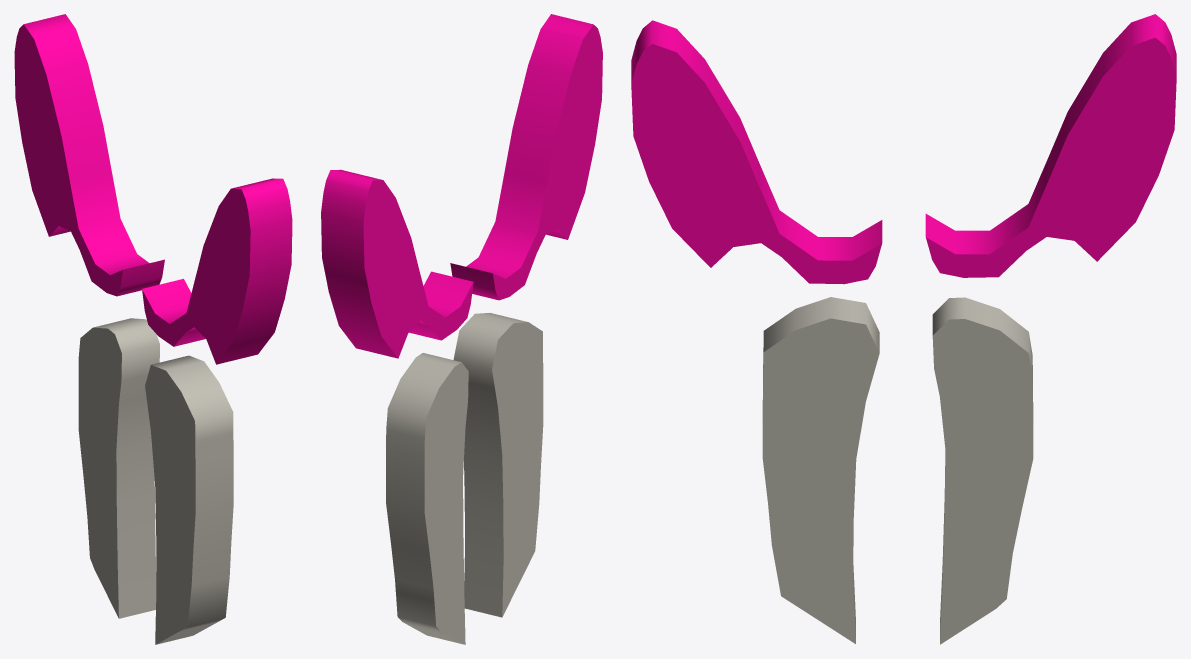
File: rat.fbx
3 views of the same model, side by side, from view 1: azimuth 30°, elevation 25°; view 2: azimuth 150°, elevation 25°; view 3: azimuth 270°, elevation 25° (orthographic). The views are drawn at different scales.
Visible parts, largest first — view 1: teeth, Eyes; view 2: teeth, Eyes; view 3: teeth, Eyes.
Part boxes in pixels (x1,y1,x2,y2): teeth: [78, 318, 233, 644]; Eyes: [14, 14, 292, 364]; teeth: [386, 313, 543, 644]; Eyes: [321, 14, 602, 358]; teeth: [762, 297, 1033, 644]; Eyes: [631, 14, 1176, 284].
Bounding box in the file's own units: 6.3 × 75.74 × 61.54.
